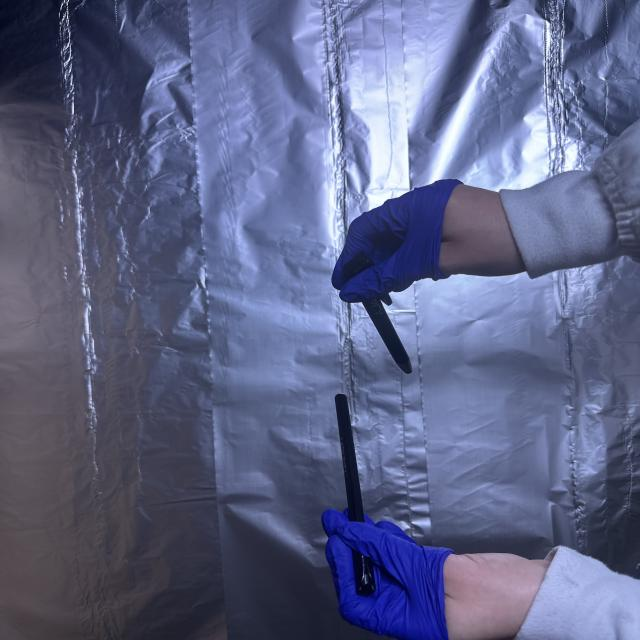glove_partial: (318, 505, 554, 640), (328, 174, 539, 305)
